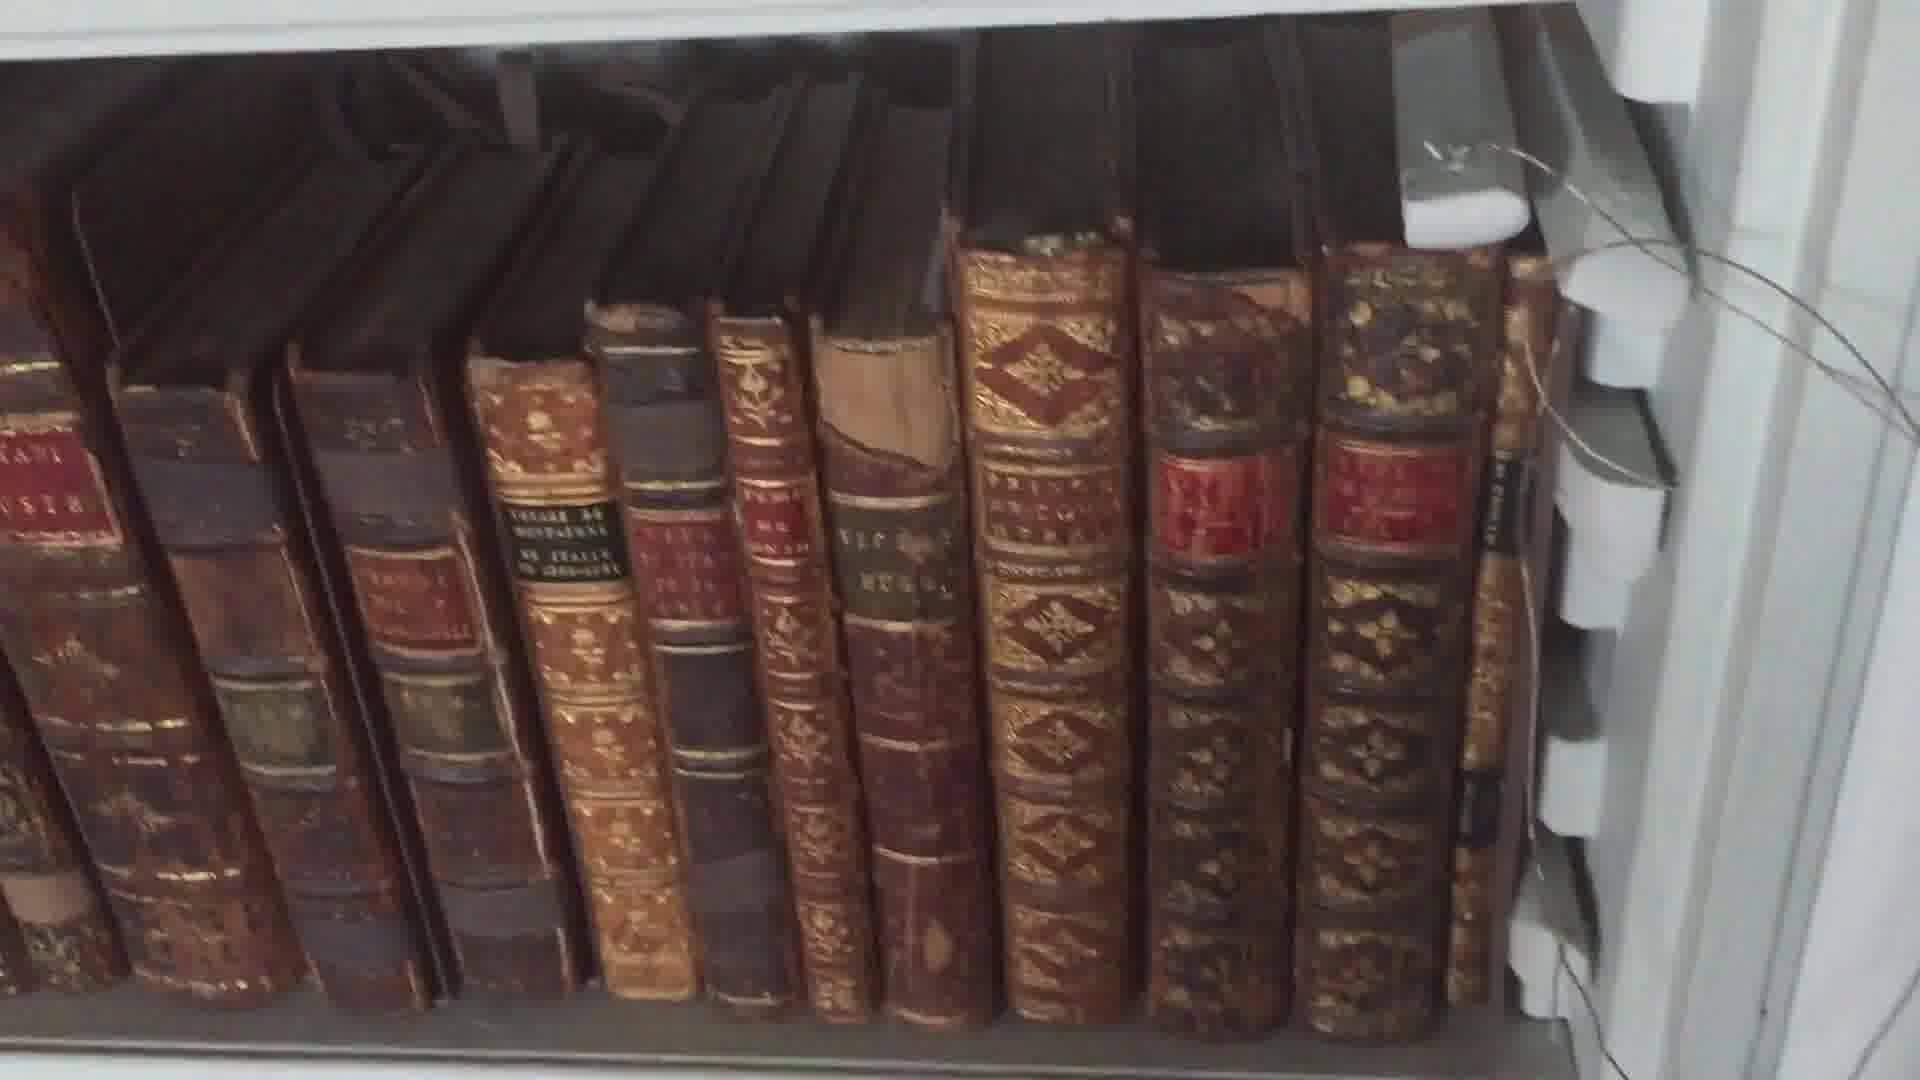Aa6-39_40: (80, 357, 589, 1019)
Aa6-41: (443, 342, 687, 1022)
Aa6-42: (587, 316, 799, 1005)
Aa6-43: (684, 301, 882, 1027)
Aa6-44: (796, 327, 990, 1039)
Aa6-45: (942, 247, 1138, 1014)
Aa6-46-47: (1146, 244, 1451, 1051)
Aa6-48: (1451, 244, 1548, 1058)
